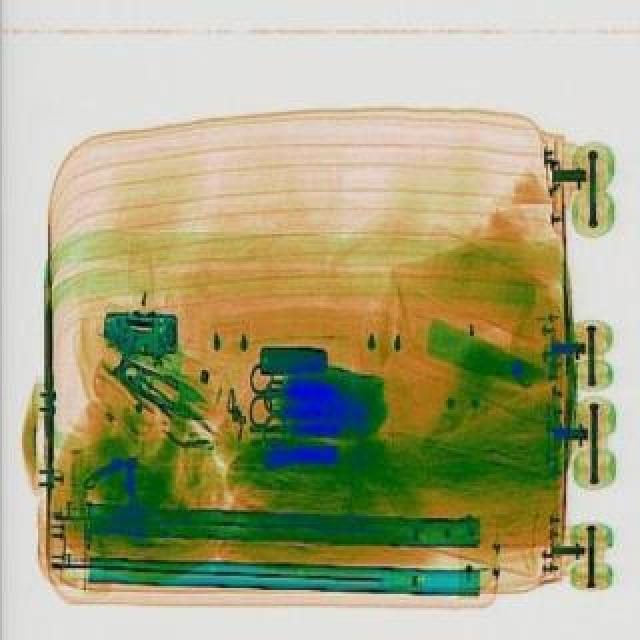pliers: (260, 378, 328, 446), (248, 358, 304, 422)
